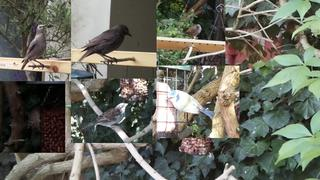blue tit: (166, 90, 215, 118)
dunnock: (180, 24, 201, 39)
mouse: (27, 105, 41, 133)
sparrow: (81, 103, 129, 131)
starling: (78, 24, 133, 65), (21, 24, 47, 70)
